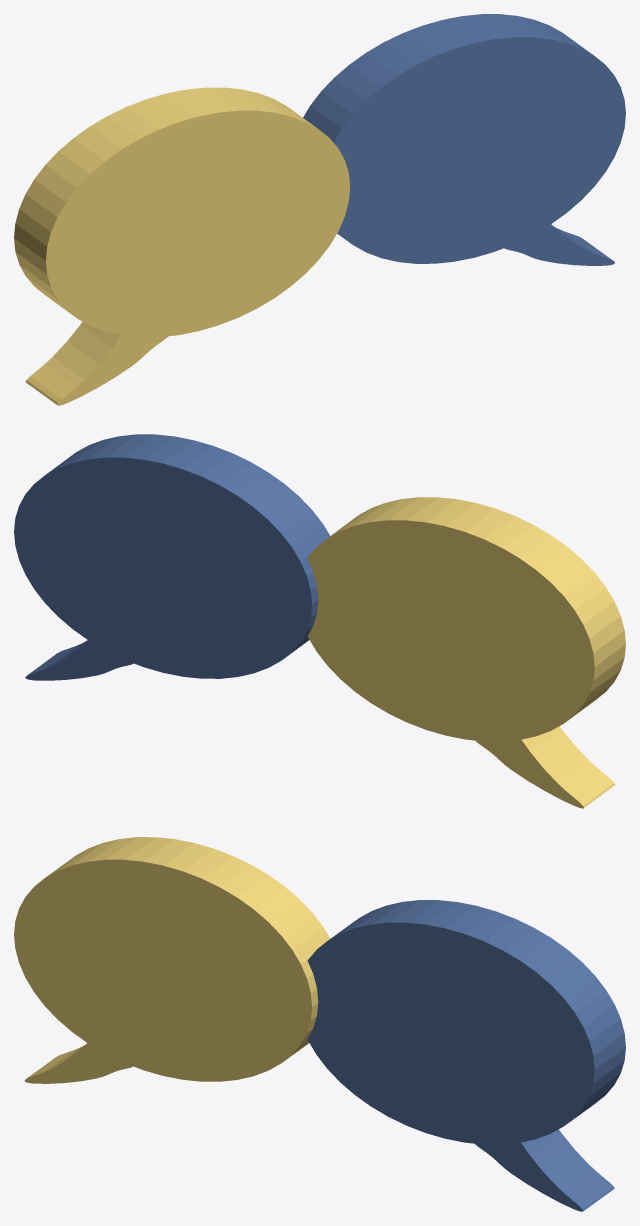
Rendered from home_loc4.glb.
3 views of the same model, one above another, from view 1: azimuth 30°, elevation 25°; view 2: azimuth 150°, elevation 25°; view 3: azimuth 330°, elevation 25° (orthographic). The views are drawn at different scales.
Parts seen in each view (by area): view 1: obj_0, obj_1; view 2: obj_0, obj_1; view 3: obj_1, obj_0.
Part boxes in pixels (x1=…): obj_0: x1=14, y1=87, x2=350, y2=405; obj_1: x1=303, y1=14, x2=625, y2=265; obj_0: x1=307, y1=497, x2=625, y2=808; obj_1: x1=14, y1=434, x2=329, y2=680; obj_1: x1=307, y1=900, x2=625, y2=1211; obj_0: x1=14, y1=837, x2=330, y2=1083.
Bounding box in the file's own units: 106 × 44.06 × 12.21.
